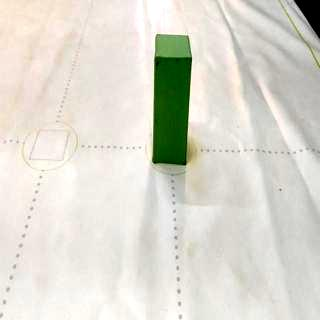greenbox: (150, 30, 193, 166)
